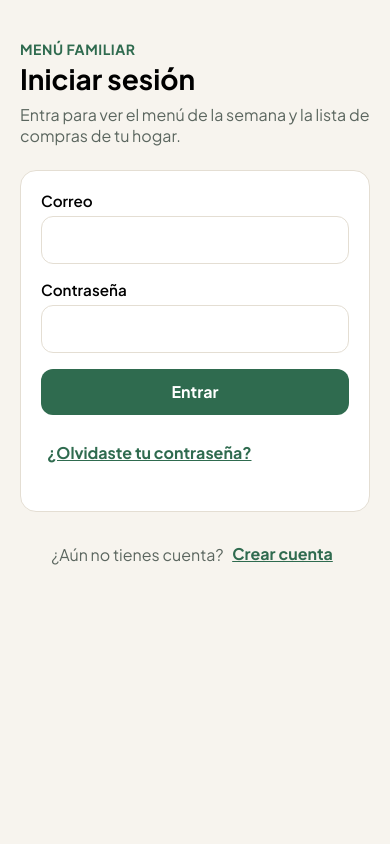
it: Iniciar sesión (HU-01) › CA-01.3 bloqueo sin hora: muestra solo el mensaje de la API
Expected: the heading "Iniciar sesión" is shown, [20, 61, 195, 96]
In the field labelled "Correo": (195, 240) [41, 216, 349, 264], type "rene@correo.com"
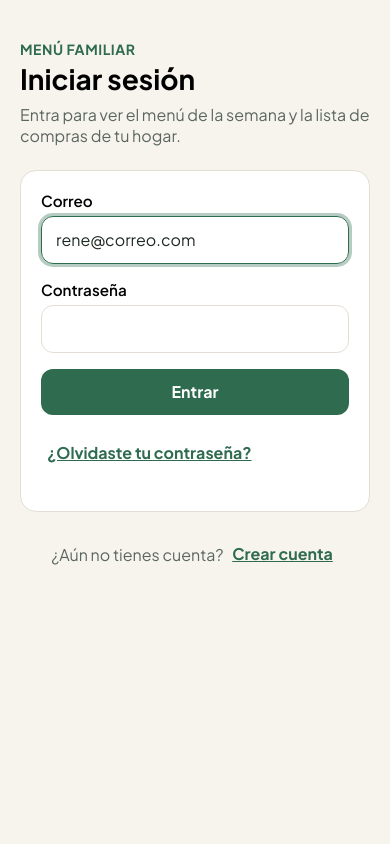
In the password field labelled "Contraseña": (195, 329) [41, 305, 349, 353], type "Almuerzo2026"
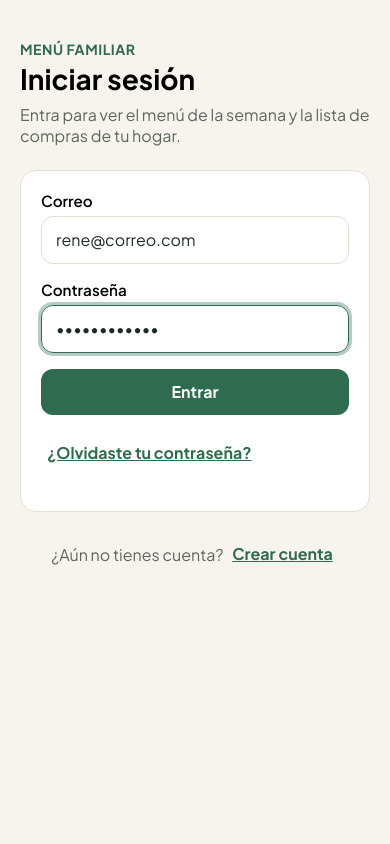
Click the button "Entrar": click(195, 392) [41, 369, 349, 415]
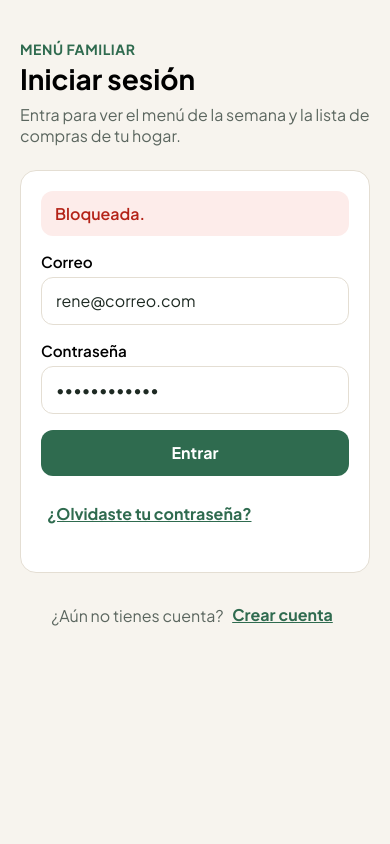
Result: the message reads "Bloqueada." at [55, 203, 145, 224]
